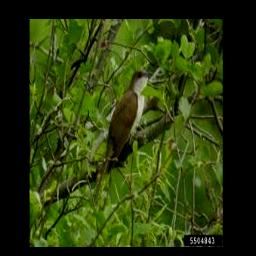Cuckoo: (94, 70, 151, 205)
